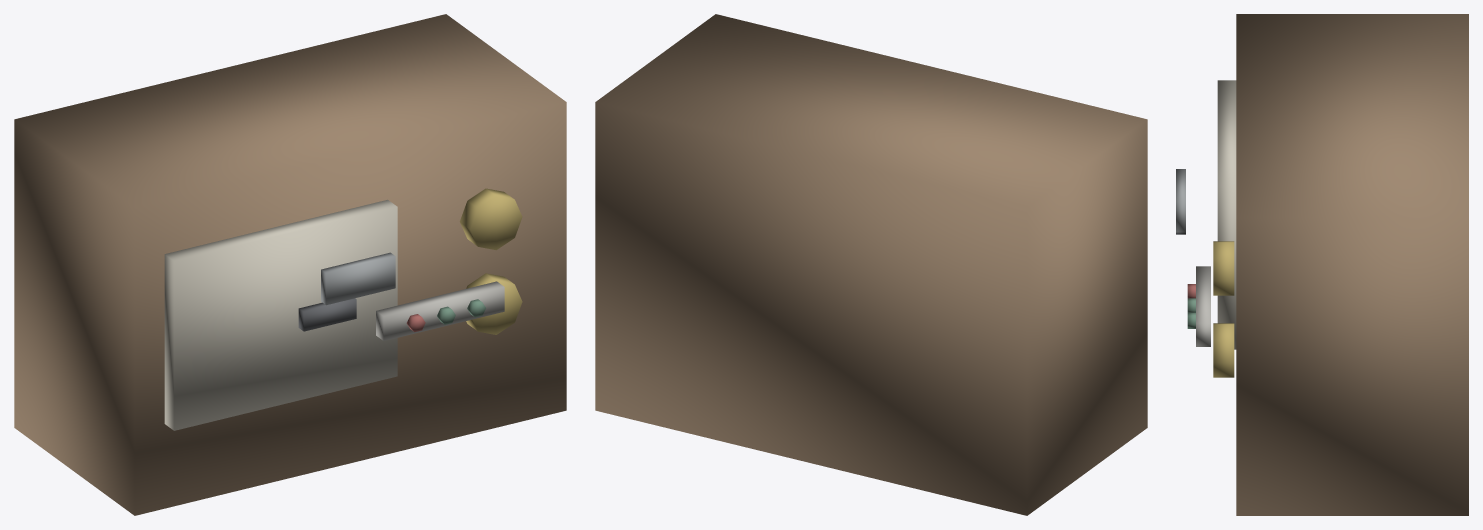
Rendered from tube_radio__weathered.glb.
3 renders of one model, left to right at view 1: azimuth 30°, elevation 25°; view 2: azimuth 150°, elevation 25°; view 3: azimuth 270°, elevation 25°, orthographic. The views are drawn at different scales.
Parts seen in each view (by area): view 1: world; view 2: world; view 3: world.
Boxes of the visible parts, x1,y1,x2,y2 form: world: (14,14,566,515); world: (595,14,1147,515); world: (1176,14,1468,515).
Bounding box in the file's own units: 0.58 × 0.396 × 0.3525.
